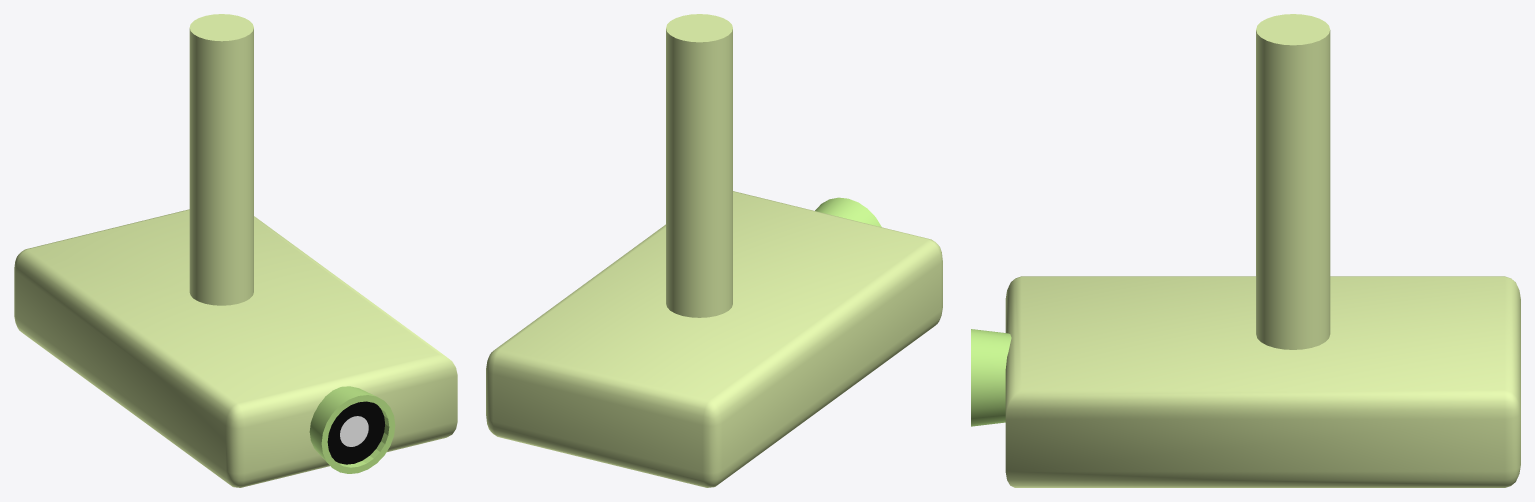
File: projecteur.fbx
3 views of the same model, side by side, from view 1: azimuth 30°, elevation 25°; view 2: azimuth 150°, elevation 25°; view 3: azimuth 270°, elevation 25° (orthographic). The views are drawn at different scales.
Parts seen in each view (by area): view 1: Box001; view 2: Box001; view 3: Box001.
Part boxes in pixels (x1,y1,x2,y2): Box001: (14,14,457,487); Box001: (486,14,942,487); Box001: (971,14,1520,487).
Bounding box in the file's own units: 25.21 × 37.34 × 46.31.
